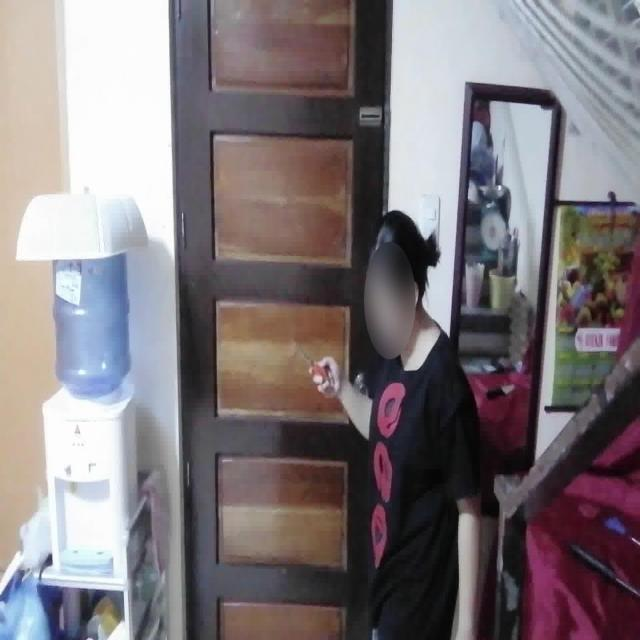scissor: (293, 334, 335, 391)
